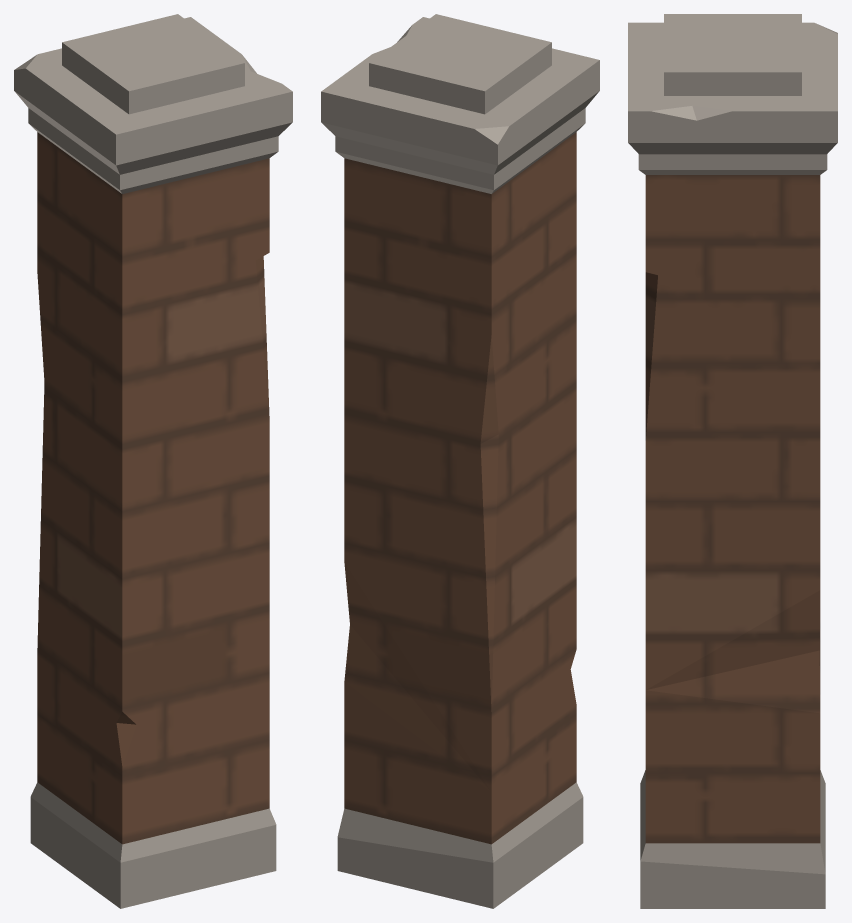
File: SM_Props_City_Park_Fence_Column_01.fbx
3 renders of one model, left to right at view 1: azimuth 30°, elevation 25°; view 2: azimuth 150°, elevation 25°; view 3: azimuth 270°, elevation 25°, orthographic. The views are drawn at different scales.
Visible parts, largest first — view 1: SM_Props_City_Park_Fence_Column_01; view 2: SM_Props_City_Park_Fence_Column_01; view 3: SM_Props_City_Park_Fence_Column_01.
Boxes of the visible parts, <box> form: SM_Props_City_Park_Fence_Column_01: <box>14,14,292,908</box>; SM_Props_City_Park_Fence_Column_01: <box>321,14,599,908</box>; SM_Props_City_Park_Fence_Column_01: <box>628,14,837,908</box>.
Bounding box in the file's own units: 60 × 261 × 60.
